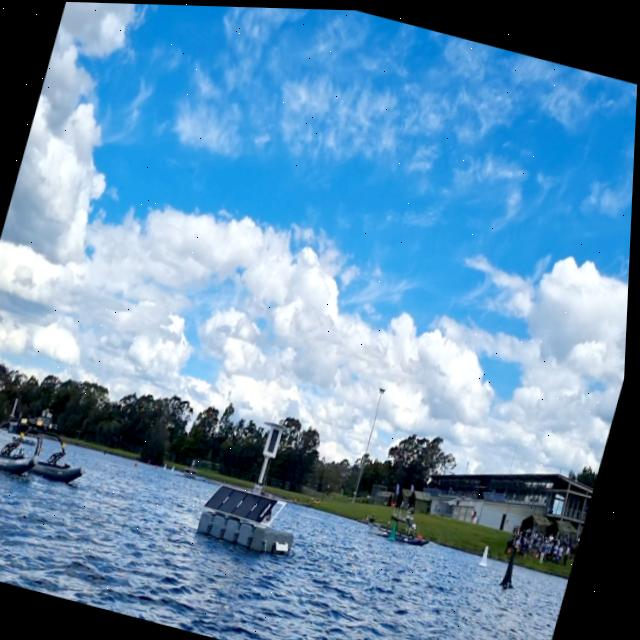led: (268, 424, 285, 453)
